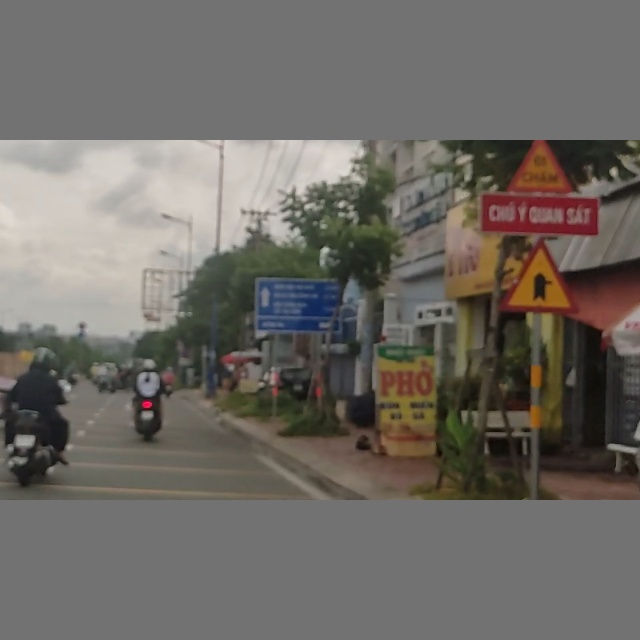W.207: (498, 241, 575, 316)
